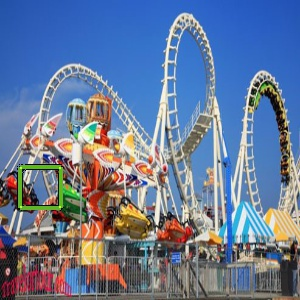square: (18, 165, 65, 211)
